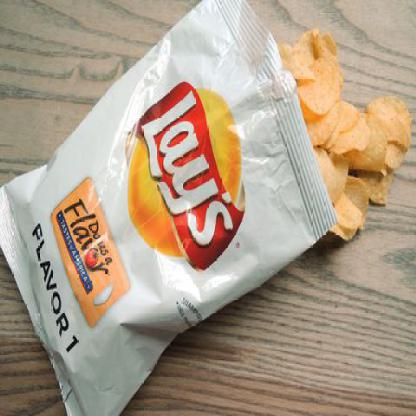potatochip: (0, 0, 343, 415)
